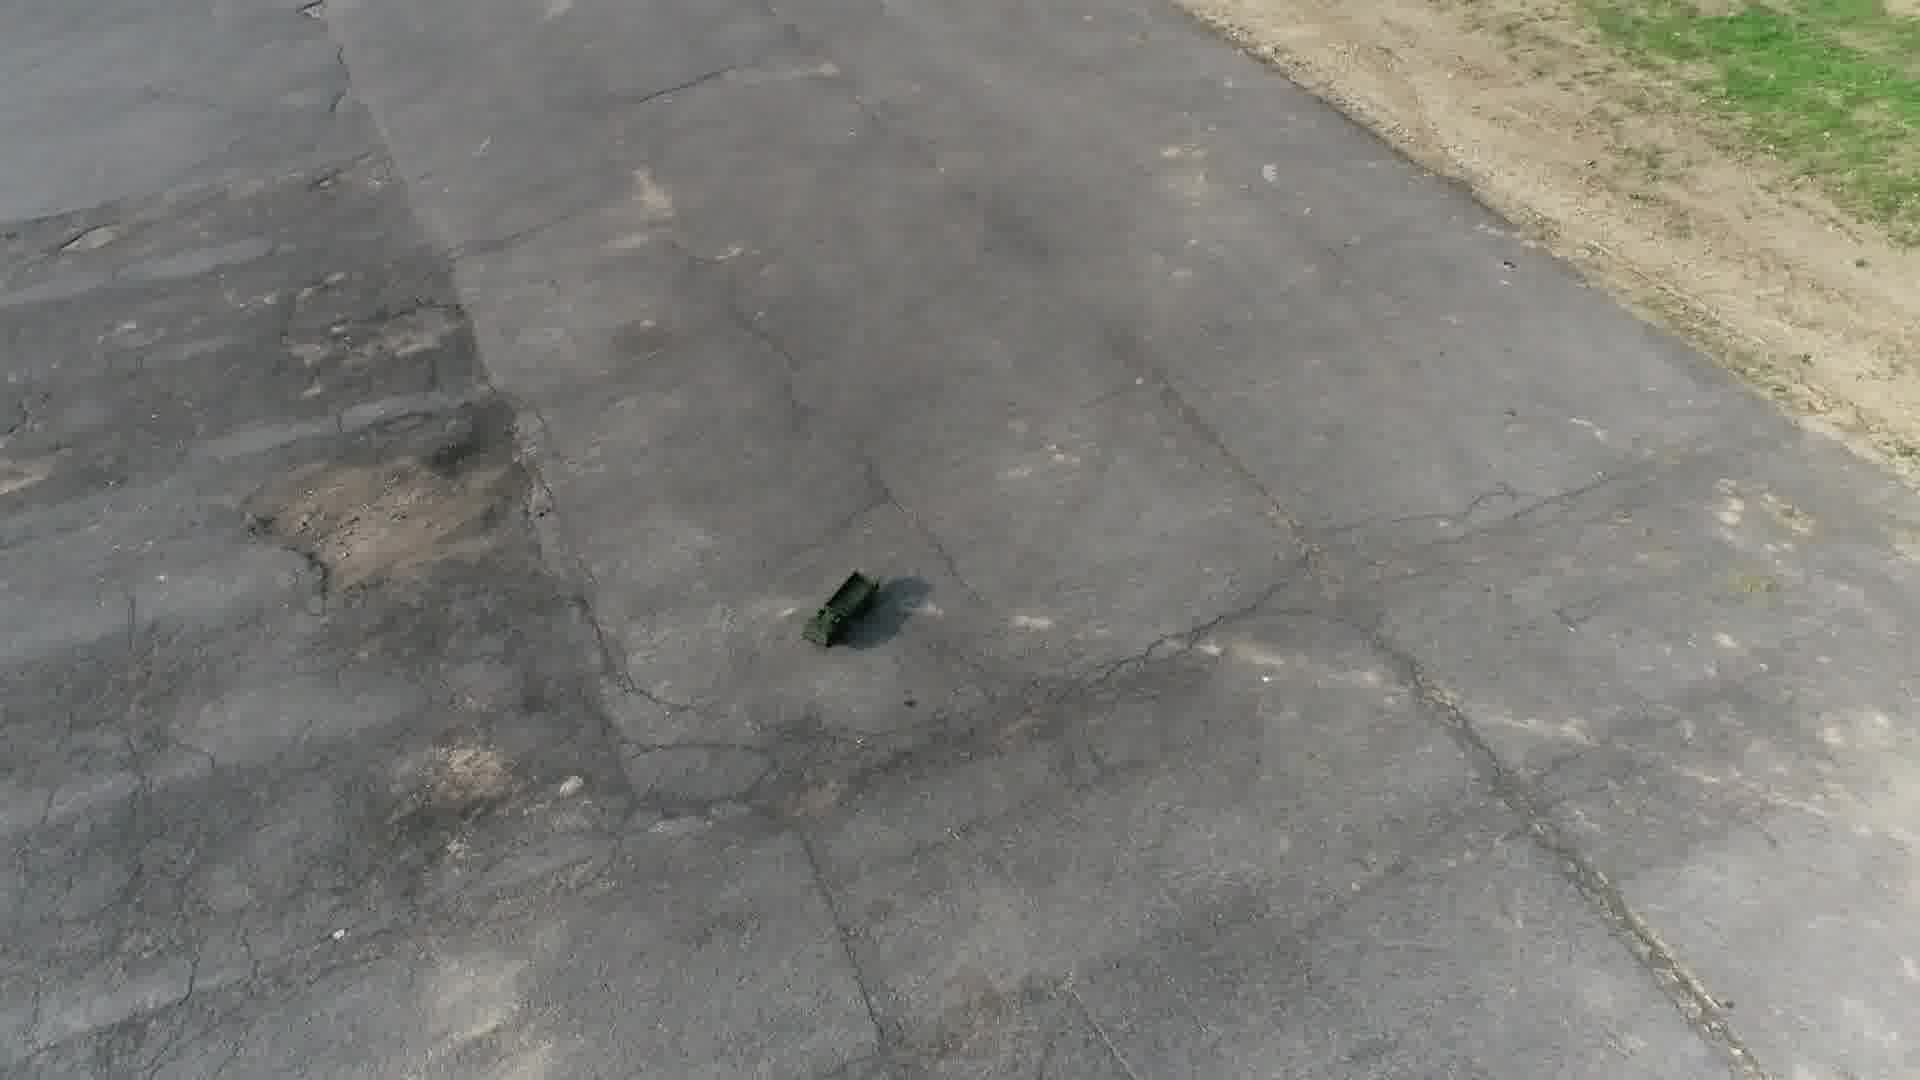transporter9: (800, 564, 881, 649)
